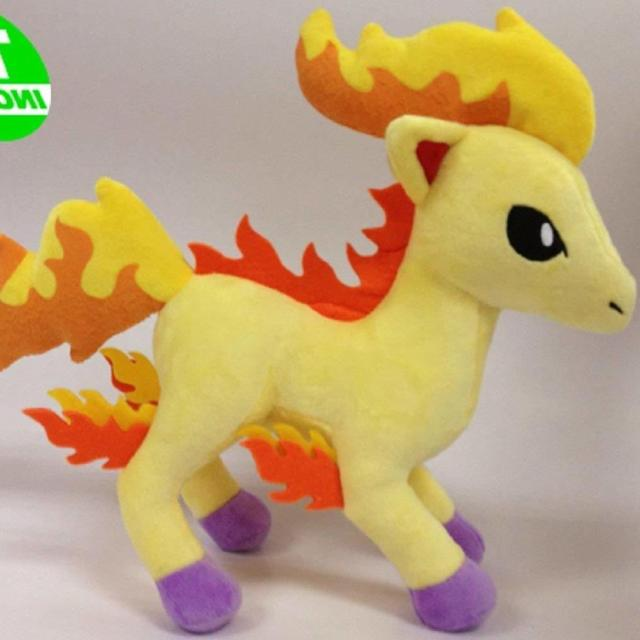Ponyta: (104, 33, 612, 629)
